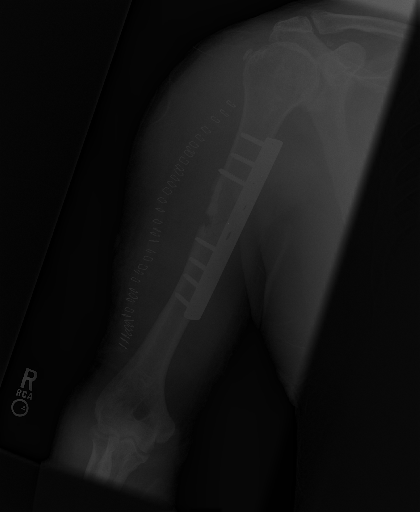implant: (211, 124, 283, 190), (172, 234, 226, 320)
